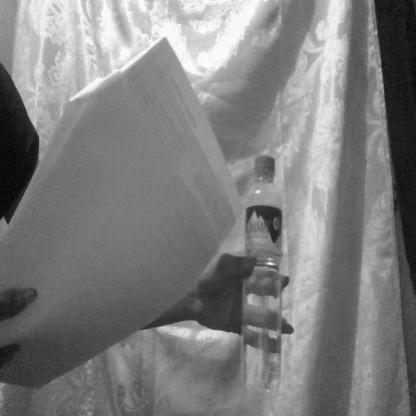Plastic Bottle: (233, 145, 314, 412)
